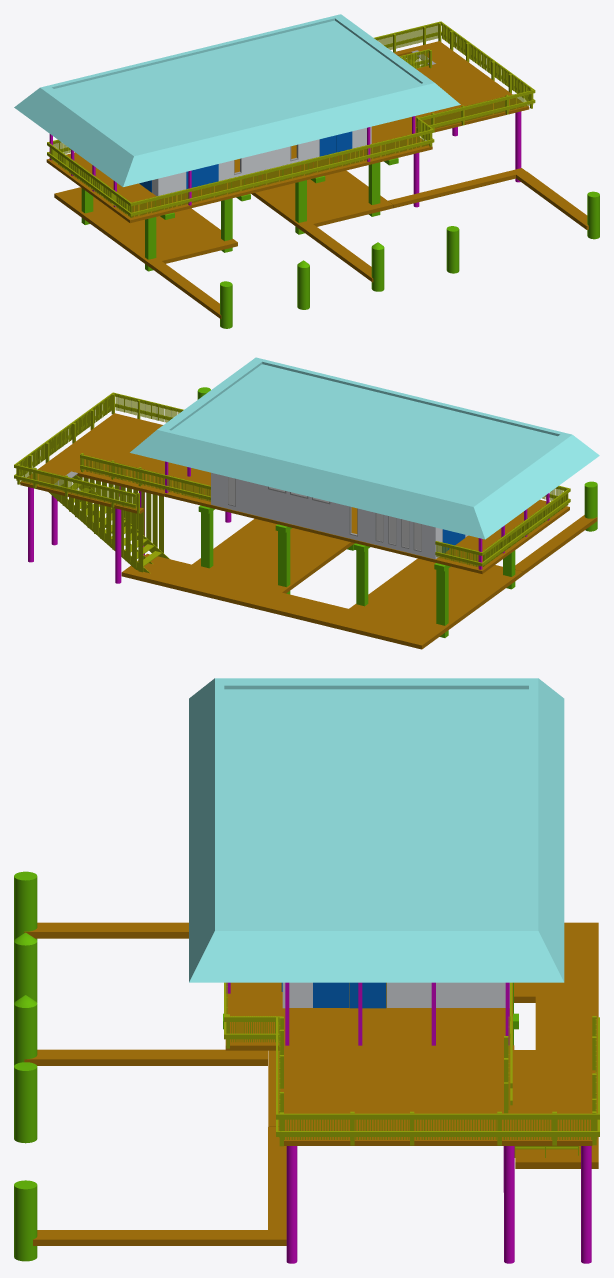
3 views of the same model, one above another, from view 1: azimuth 30°, elevation 25°; view 2: azimuth 150°, elevation 25°; view 3: azimuth 270°, elevation 25° (orthographic). The views are drawn at different scales.
Parts seen in each view (by area): view 1: ndHouse:pCube6, ndHouse:pCube1, ndHouse:pCube23, pCube1, ndHouse:pCube25, ndHouse:polySurface466, pCube169, ndHouse:pCube38, ndHouse:pCube47, pCube27, polySurface467, pCube28 (+15 smaller); view 2: ndHouse:pCube6, ndHouse:pCube23, ndHouse:pCube25, pCube1, pCube169, ndHouse:pCube1, pCube26, ndHouse:polySurface466, ndHouse:pCube26, polySurface467, polySurface468, ndHouse:pCube24 (+13 smaller); view 3: ndHouse:pCube6, pCube1, ndHouse:pCube1, ndHouse:pCube26, ndHouse:pCube27, pCube169, pCube28, ndHouse:pCube23, pCube26, ndHouse:pCube25, polySurface467, ndHouse:pCube24 (+13 smaller).
Boxes of the visible parts, bbox=[...] form: ndHouse:pCube6: bbox=[14, 14, 460, 186]; ndHouse:pCube1: bbox=[46, 120, 432, 223]; ndHouse:pCube23: bbox=[54, 187, 237, 267]; pCube1: bbox=[393, 41, 529, 132]; ndHouse:pCube25: bbox=[251, 170, 392, 230]; ndHouse:polySurface466: bbox=[50, 130, 430, 217]; pCube169: bbox=[152, 126, 371, 196]; ndHouse:pCube38: bbox=[130, 129, 433, 206]; ndHouse:pCube47: bbox=[130, 139, 433, 216]; pCube27: bbox=[388, 168, 526, 208]; polySurface467: bbox=[442, 23, 533, 104]; pCube28: bbox=[516, 171, 588, 229]; ndHouse:pCube6: bbox=[130, 357, 599, 539]; ndHouse:pCube23: bbox=[329, 558, 522, 649]; ndHouse:pCube25: bbox=[189, 518, 354, 610]; pCube1: bbox=[20, 413, 196, 514]; pCube169: bbox=[211, 472, 467, 559]; ndHouse:pCube1: bbox=[164, 469, 569, 573]; pCube26: bbox=[121, 553, 241, 599]; ndHouse:polySurface466: bbox=[167, 475, 568, 566]; ndHouse:pCube26: bbox=[262, 592, 360, 626]; polySurface467: bbox=[17, 394, 112, 475]; polySurface468: bbox=[16, 464, 136, 509]; ndHouse:pCube24: bbox=[515, 515, 597, 575]; ndHouse:pCube6: bbox=[189, 678, 564, 982]; pCube1: bbox=[284, 1045, 592, 1145]; ndHouse:pCube1: bbox=[225, 982, 512, 1050]; ndHouse:pCube26: bbox=[535, 987, 598, 1062]; ndHouse:pCube27: bbox=[24, 1049, 267, 1065]; pCube169: bbox=[282, 982, 509, 1008]; pCube28: bbox=[33, 1230, 267, 1245]; ndHouse:pCube23: bbox=[514, 922, 598, 1002]; pCube26: bbox=[515, 1085, 598, 1168]; ndHouse:pCube25: bbox=[268, 1050, 597, 1126]; polySurface467: bbox=[280, 1119, 592, 1140]; ndHouse:pCube24: bbox=[24, 922, 188, 938].
Bounding box in the file's own units: 365 × 112 × 246.
